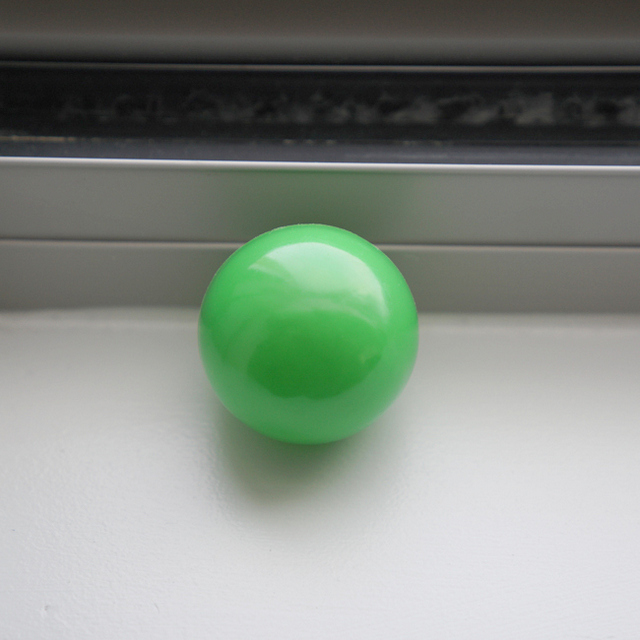Ball: (196, 223, 419, 444)
